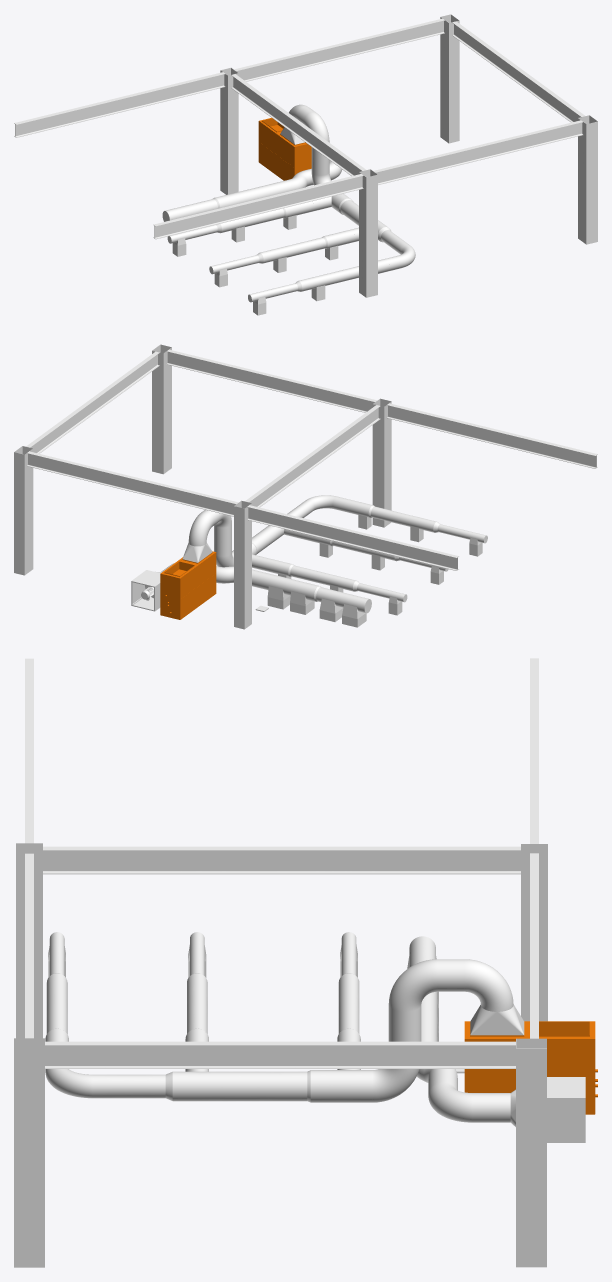
Rendered from 3dExport.glb.
The picture shows the model from 3 angles, top to bottom: view 1: azimuth 30°, elevation 25°; view 2: azimuth 150°, elevation 25°; view 3: azimuth 270°, elevation 25°; orthographic projection. The views are drawn at different scales.
Parts seen in each view (by area): view 1: ImportInstance Estructura_proyectada.dwg <1695073 location <, FamilyInstance Mechanical Equipment C4_UMA_Petrobras <169501, Duct Ducts <1695132 Grifos<, Duct Ducts <1695088 Grifos<, Duct Ducts <1695112 Grifos<, Duct Ducts <1695038 Grifos<, Duct Ducts <1695064 Grifos<, Duct Ducts <1695108 Grifos<, Duct Ducts <1695084 Grifos<, FamilyInstance Duct Fittings M_Codo redondo <1695026 1 D<, Duct Ducts <1695024 Grifos<, Duct Ducts <1695032 Grifos<; view 2: ImportInstance Estructura_proyectada.dwg <1695073 location <, FamilyInstance Mechanical Equipment C4_UMA_Petrobras <169501, FamilyInstance Mechanical Equipment YFISQ-575D4-5 <1695074 Y, Duct Ducts <1695132 Grifos<, Duct Ducts <1695038 Grifos<, Duct Ducts <1695112 Grifos<, Duct Ducts <1695064 Grifos<, FamilyInstance Duct Fittings M_Codo redondo <1695022 1 D<, Duct Ducts <1695024 Grifos<, Duct Ducts <1695050 Grifos<, Duct Ducts <1695108 Grifos<, Duct Ducts <1695032 Grifos< (+1 smaller); view 3: ImportInstance Estructura_proyectada.dwg <1695073 location <, FamilyInstance Mechanical Equipment C4_UMA_Petrobras <169501, Duct Ducts <1695050 Grifos<, FamilyInstance Mechanical Equipment YFISQ-575D4-5 <1695074 Y, Duct Ducts <1695058 Grifos<, Duct Ducts <1695048 Grifos<, FamilyInstance Duct Fittings M_Codo redondo <1695022 1 D<, FamilyInstance Duct Fittings M_Codo redondo <1695026 1 D<, FamilyInstance Duct Fittings M_Codo redondo <1695075 1 D<, FamilyInstance Duct Fittings M_Transición de rectangular a r, Duct Ducts <1695038 Grifos<, Duct Ducts <1695112 Grifos< (+7 smaller).
Boxes of the visible parts, x1,y1,x2,y2 form: ImportInstance Estructura_proyectada.dwg <1695073 location <: [14, 14, 597, 297]; FamilyInstance Mechanical Equipment C4_UMA_Petrobras <169501: [258, 117, 311, 180]; Duct Ducts <1695132 Grifos<: [215, 179, 295, 207]; Duct Ducts <1695088 Grifos<: [260, 237, 325, 263]; Duct Ducts <1695112 Grifos<: [298, 266, 358, 291]; Duct Ducts <1695038 Grifos<: [220, 208, 284, 232]; Duct Ducts <1695064 Grifos<: [162, 199, 217, 221]; Duct Ducts <1695108 Grifos<: [248, 283, 297, 302]; Duct Ducts <1695084 Grifos<: [209, 255, 259, 274]; FamilyInstance Duct Fittings M_Codo redondo <1695026 1 D<: [304, 112, 329, 142]; Duct Ducts <1695024 Grifos<: [311, 147, 329, 175]; Duct Ducts <1695032 Grifos<: [167, 225, 217, 243]; ImportInstance Estructura_proyectada.dwg <1695073 location <: [14, 344, 597, 629]; FamilyInstance Mechanical Equipment C4_UMA_Petrobras <169501: [160, 551, 216, 619]; FamilyInstance Mechanical Equipment YFISQ-575D4-5 <1695074 Y: [131, 570, 160, 611]; Duct Ducts <1695132 Grifos<: [252, 569, 318, 601]; Duct Ducts <1695038 Grifos<: [290, 565, 356, 591]; Duct Ducts <1695112 Grifos<: [371, 506, 436, 532]; Duct Ducts <1695064 Grifos<: [316, 587, 371, 613]; FamilyInstance Duct Fittings M_Codo redondo <1695022 1 D<: [188, 511, 214, 546]; Duct Ducts <1695024 Grifos<: [214, 525, 231, 556]; Duct Ducts <1695050 Grifos<: [252, 525, 283, 554]; Duct Ducts <1695108 Grifos<: [437, 524, 487, 543]; Duct Ducts <1695032 Grifos<: [357, 583, 407, 602]; ImportInstance Estructura_proyectada.dwg <1695073 location <: [14, 658, 547, 1267]; FamilyInstance Mechanical Equipment C4_UMA_Petrobras <169501: [464, 1021, 597, 1114]; Duct Ducts <1695050 Grifos<: [172, 1071, 307, 1101]; FamilyInstance Mechanical Equipment YFISQ-575D4-5 <1695074 Y: [547, 1077, 585, 1142]; Duct Ducts <1695058 Grifos<: [310, 1070, 372, 1102]; Duct Ducts <1695048 Grifos<: [92, 1074, 165, 1098]; FamilyInstance Duct Fittings M_Codo redondo <1695022 1 D<: [464, 959, 513, 1011]; FamilyInstance Duct Fittings M_Codo redondo <1695026 1 D<: [388, 959, 437, 1011]; FamilyInstance Duct Fittings M_Codo redondo <1695075 1 D<: [428, 1082, 472, 1122]; FamilyInstance Duct Fittings M_Transición de rectangular a r: [470, 1004, 524, 1035]; Duct Ducts <1695038 Grifos<: [338, 973, 359, 1033]; Duct Ducts <1695112 Grifos<: [46, 973, 67, 1033].
Bounding box in the file's own units: 15.82 × 4.14 × 10.
